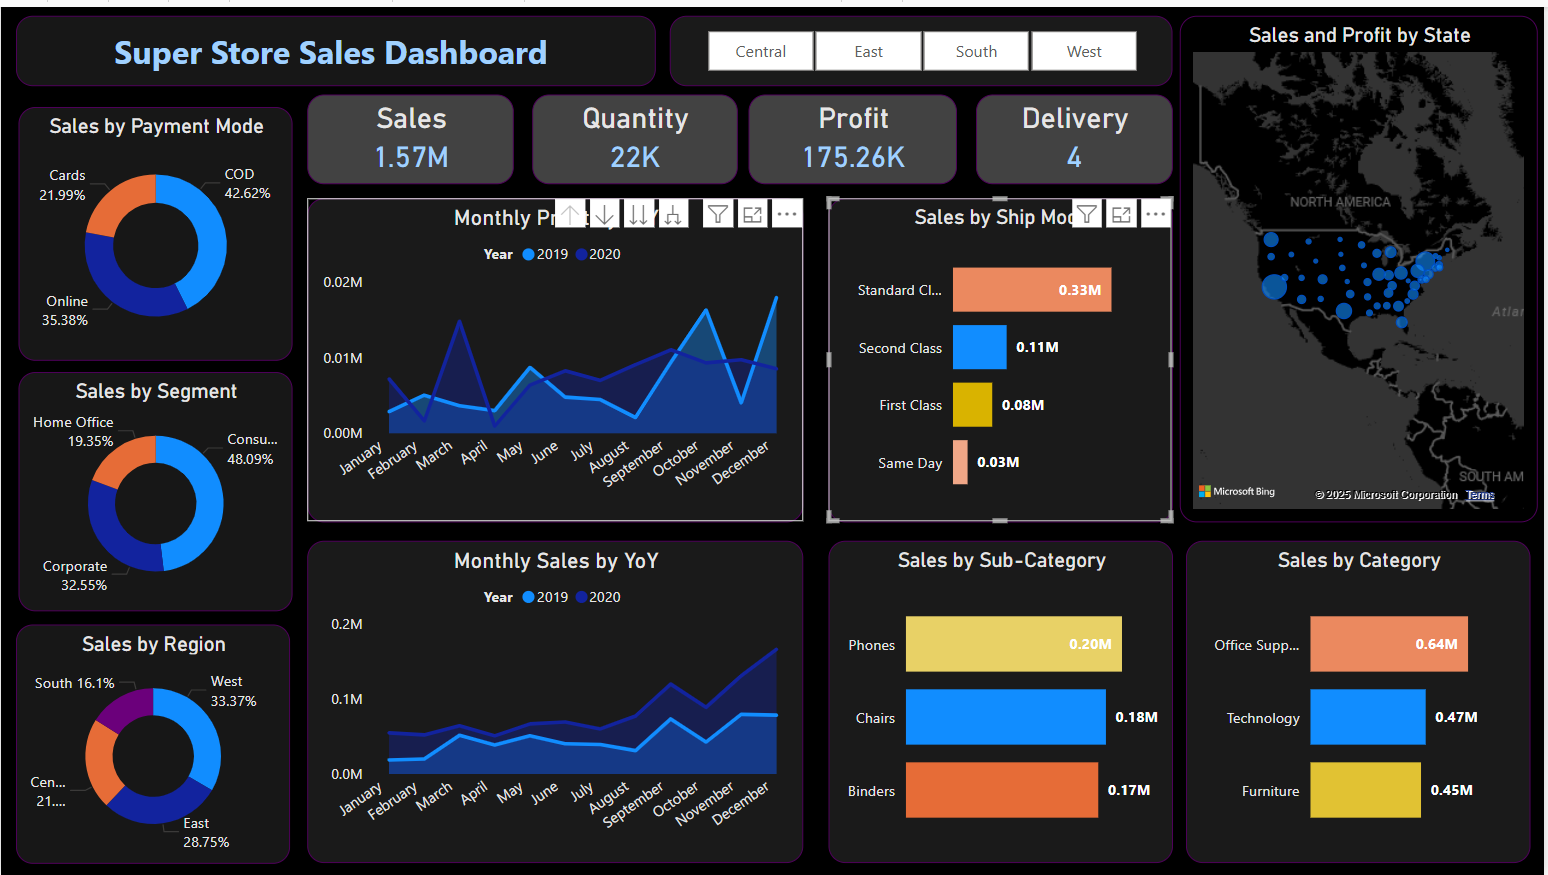

What the dashboard file says about the page in this screenshot:
{"tool":"powerbi","page":{"name":"Page 1","canvas":[1280,720],"ordinal":0},"visuals":[{"type":"clusteredBarChart","title":"Sales by Category","fields":{"Category":["SuperStore_Sales_Dataset (2).Category"],"Y":["Sum(SuperStore_Sales_Dataset (2).Sales)"]},"box":[982.9,442.9,285.7,267.1],"z":0},{"type":"clusteredBarChart","title":"Sales by Sub-Category","fields":{"Category":["SuperStore_Sales_Dataset (2).Sub-Category"],"Y":["Sum(SuperStore_Sales_Dataset (2).Sales)"]},"box":[685.7,442.9,285.7,267.1],"z":1000},{"type":"clusteredBarChart","title":"Sales by Ship Mode","fields":{"Category":["SuperStore_Sales_Dataset (2).Ship Mode"],"Y":["Sum(SuperStore_Sales_Dataset (2).Sales)"]},"box":[685.7,158.6,285.7,268.6],"z":2000},{"type":"areaChart","title":"Monthly Sales  by YoY","fields":{"Category":["SuperStore_Sales_Dataset (2).Order Date.Variation.Date Hierarchy.Month","SuperStore_Sales_Dataset (2).Order Date.Variation.Date Hierarchy.Day"],"Y":["Sum(SuperStore_Sales_Dataset (2).Sales)"],"Series":["SuperStore_Sales_Dataset (2).Order Date.Variation.Date Hierarchy.Year"]},"box":[254.3,442.9,411.4,267.1],"z":3000},{"type":"areaChart","title":"Monthly Profit by YoY","fields":{"Category":["SuperStore_Sales_Dataset (2).Order Date.Variation.Date Hierarchy.Month","SuperStore_Sales_Dataset (2).Order Date.Variation.Date Hierarchy.Day"],"Series":["SuperStore_Sales_Dataset (2).Order Date.Variation.Date Hierarchy.Year"],"Y":["Sum(SuperStore_Sales_Dataset (2).Profit)"]},"box":[254.3,158.6,411.4,268.6],"z":4000},{"type":"map","title":"Sales and Profit by State","fields":{"Category":["SuperStore_Sales_Dataset (2).State"],"Size":["Sum(SuperStore_Sales_Dataset (2).Sales)"]},"box":[977.1,7.1,297.1,420],"z":5000},{"type":"donutChart","title":"Sales by Segment","fields":{"Category":["SuperStore_Sales_Dataset (2).Segment"],"Y":["Sum(SuperStore_Sales_Dataset (2).Sales)"]},"box":[14.3,302.9,227.1,198.6],"z":6000},{"type":"donutChart","title":"Sales by Payment Mode","fields":{"Category":["SuperStore_Sales_Dataset (2).Payment Mode"],"Y":["Sum(SuperStore_Sales_Dataset (2).Sales)"]},"box":[14.3,82.9,227.1,210],"z":7000},{"type":"donutChart","title":"Sales by Region","fields":{"Category":["SuperStore_Sales_Dataset (2).Region"],"Y":["Sum(SuperStore_Sales_Dataset (2).Sales)"]},"box":[12.9,511.4,227.1,198.6],"z":8000},{"type":"slicer","fields":{"Values":["SuperStore_Sales_Dataset (2).Region"]},"box":[554.3,7.1,417.1,58.6],"z":9000},{"type":"textbox","box":[12.9,7.1,530,58.6],"z":10000},{"type":"card","title":"Sales","fields":{"Values":["Sum(SuperStore_Sales_Dataset (2).Sales)"]},"box":[254.3,72.9,171.4,74.3],"z":11000},{"type":"card","title":"Quantity","fields":{"Values":["Sum(SuperStore_Sales_Dataset (2).Quantity)"]},"box":[440,72.9,170,74.3],"z":12000},{"type":"card","title":"Profit","fields":{"Values":["Sum(SuperStore_Sales_Dataset (2).Profit)"]},"box":[620,72.9,172.9,74.3],"z":13000},{"type":"card","title":"Delivery","fields":{"Values":["Avg(SuperStore_Sales_Dataset (2).AvgDelivery)"]},"box":[808.6,72.9,162.9,74.3],"z":14000}]}

Visuals, with their boxes in screenshot pixels (x1, y1, x2, y2), scaled from the page's 1280x720 canvas onto the 1548x875 screenshot:
"Sales by Category" clusteredBarChart: bbox=(1189, 538, 1534, 863)
"Sales by Sub-Category" clusteredBarChart: bbox=(829, 538, 1175, 863)
"Sales by Ship Mode" clusteredBarChart: bbox=(829, 193, 1175, 519)
"Monthly Sales  by YoY" areaChart: bbox=(308, 538, 805, 863)
"Monthly Profit by YoY" areaChart: bbox=(308, 193, 805, 519)
"Sales and Profit by State" map: bbox=(1182, 9, 1541, 519)
"Sales by Segment" donutChart: bbox=(17, 368, 292, 609)
"Sales by Payment Mode" donutChart: bbox=(17, 101, 292, 356)
"Sales by Region" donutChart: bbox=(16, 621, 290, 863)
slicer - SuperStore_Sales_Dataset (2).Region: bbox=(670, 9, 1175, 80)
textbox: bbox=(16, 9, 657, 80)
"Sales" card: bbox=(308, 89, 515, 179)
"Quantity" card: bbox=(532, 89, 738, 179)
"Profit" card: bbox=(750, 89, 959, 179)
"Delivery" card: bbox=(978, 89, 1175, 179)
